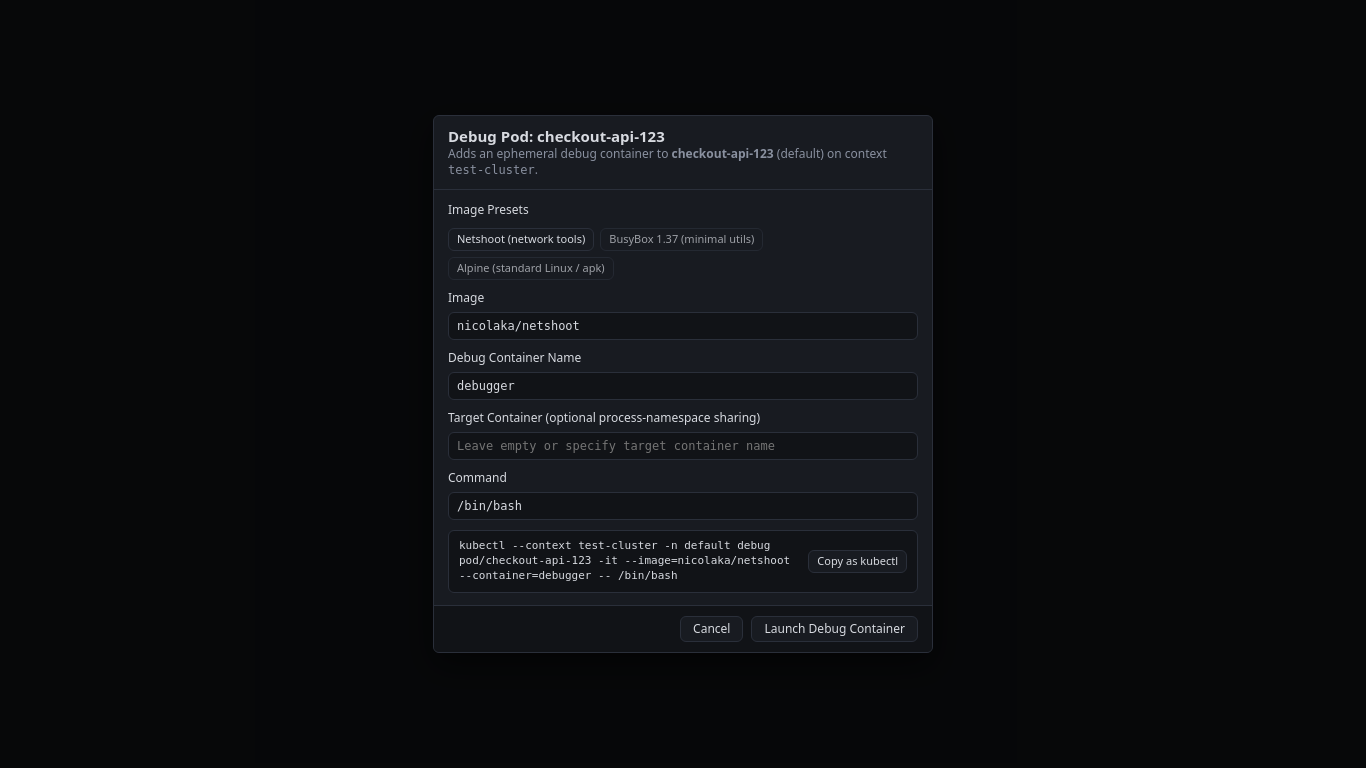
<DebugContainerModal /> › renders presets and updates image when preset button is clicked
Expected: the heading "Debug Pod: checkout-api-123" is shown, [448,126,665,146]
Click the button "BusyBox 1.37 (minimal utils)" at coordinates (682, 239), box [600,228,763,251]
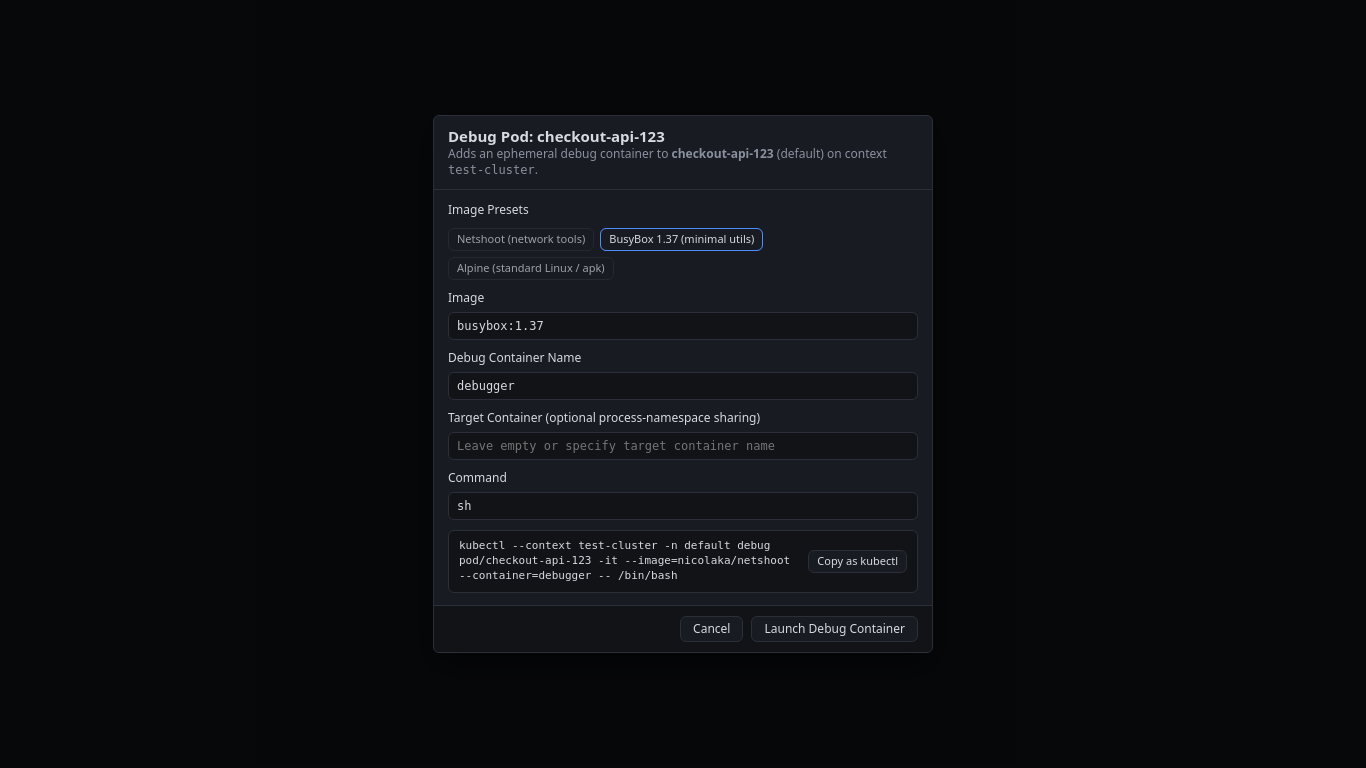
Expected: the field with placeholder "e.g. nicolaka/netshoot, busybox:1.37, alpine" holds "busybox:1.37", [448,312,918,340]
